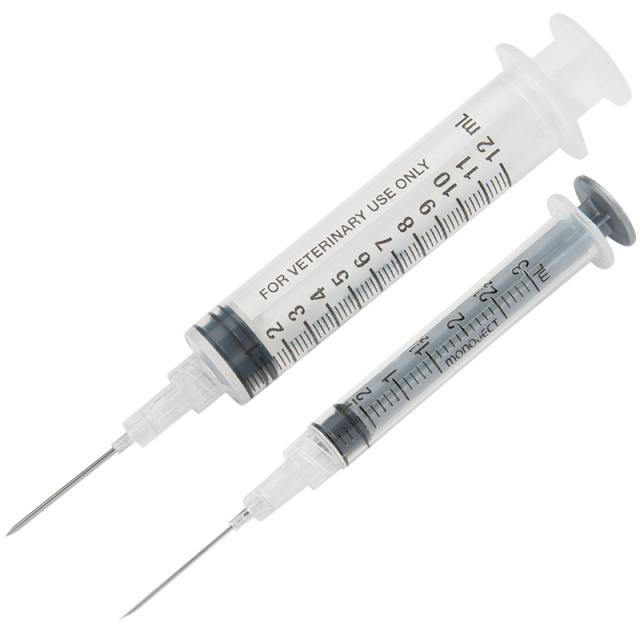syringe: (5, 11, 632, 537), (97, 170, 637, 631)
